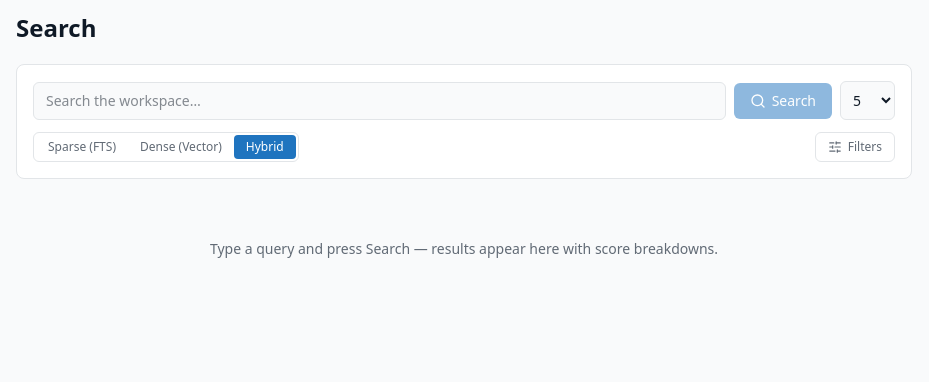
SearchPage › shows hint before first run and runs a search
This screenshot has width=929, height=382.
Expected: the text "Type a query" is shown, [210,239,718,258]
In the field with test id "search-input": (379, 100) [33,82,726,120], type "ndvi"
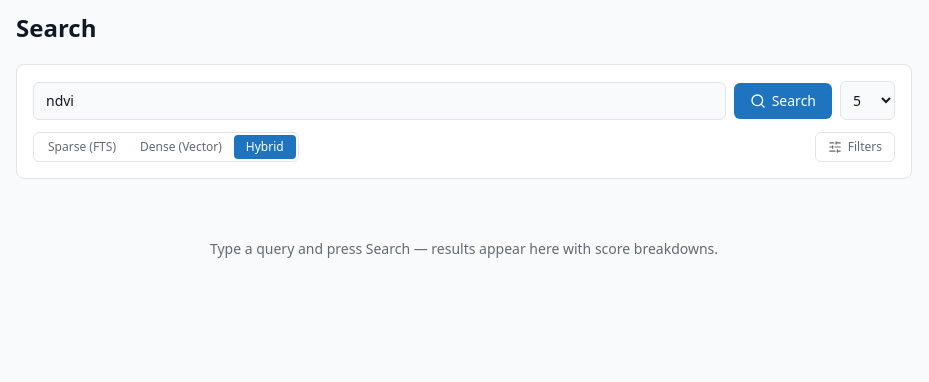
Click the button with test id "search-run": (783, 100) [734,82,832,118]
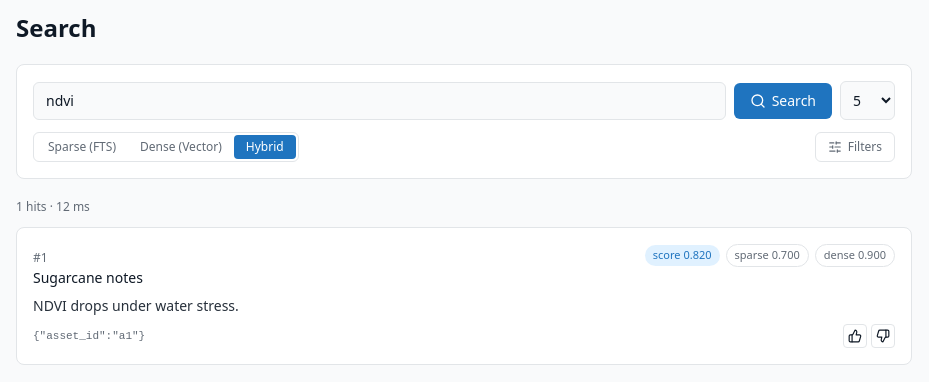
Expected: the number of elements with test id "hit-card" is 1, [16,227,912,365]
Expected: the text "NDVI drops under water stress." is shown, [33,296,239,315]
